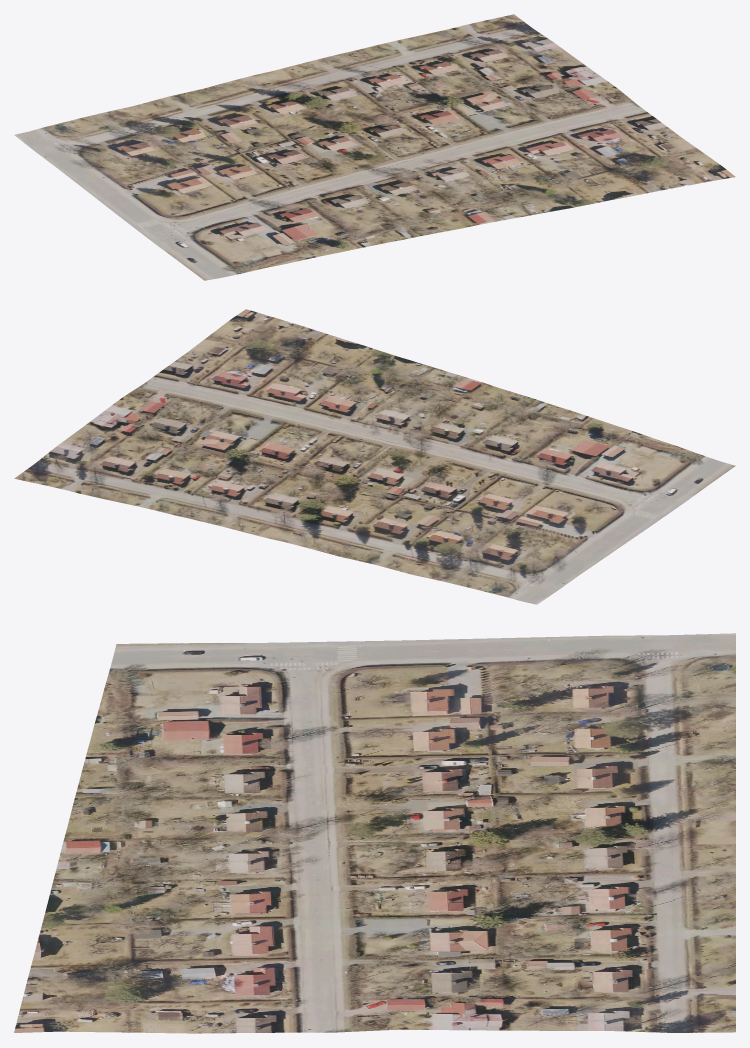
File: CM_Terrain_24489230_6818565.fbx
3 views of the same model, one above another, from view 1: azimuth 30°, elevation 25°; view 2: azimuth 150°, elevation 25°; view 3: azimuth 270°, elevation 25° (orthographic). The views are drawn at different scales.
Parts seen in each view (by area): view 1: CM_Terrain_24489230_6818565_LOD0; view 2: CM_Terrain_24489230_6818565_LOD0; view 3: CM_Terrain_24489230_6818565_LOD0.
Part boxes in pixels (x1,y1,x2,y2): CM_Terrain_24489230_6818565_LOD0: (14,14,735,280); CM_Terrain_24489230_6818565_LOD0: (14,309,735,604); CM_Terrain_24489230_6818565_LOD0: (14,633,735,1033).
Size of what is drawn, in the model's own units: 205 by 3.19 by 157.
